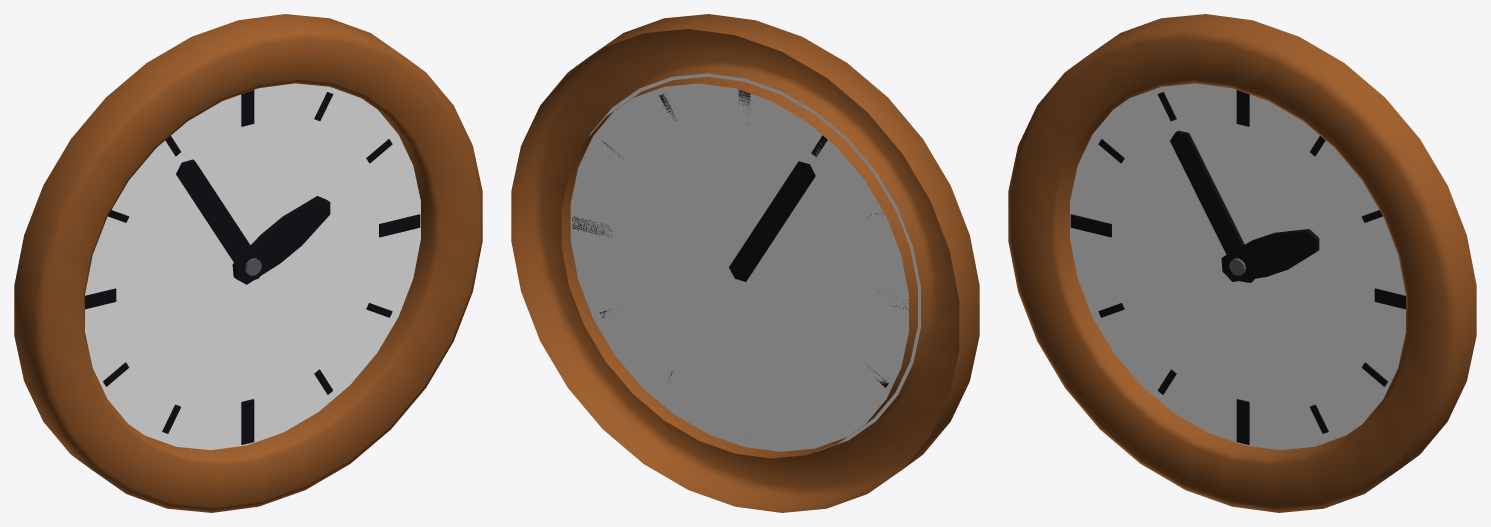
Rendered from Clock.fbx.
3 renders of one model, left to right at view 1: azimuth 30°, elevation 25°; view 2: azimuth 150°, elevation 25°; view 3: azimuth 330°, elevation 25°, orthographic.
Visible parts, largest first — view 1: Clock; view 2: Clock; view 3: Clock.
Part boxes in pixels (box(x1,y1,x2,y2)): Clock: box(14, 14, 482, 512); Clock: box(511, 14, 979, 512); Clock: box(1008, 14, 1476, 512).
Bounding box in the file's own units: 0.5845 × 0.5877 × 0.0531.
